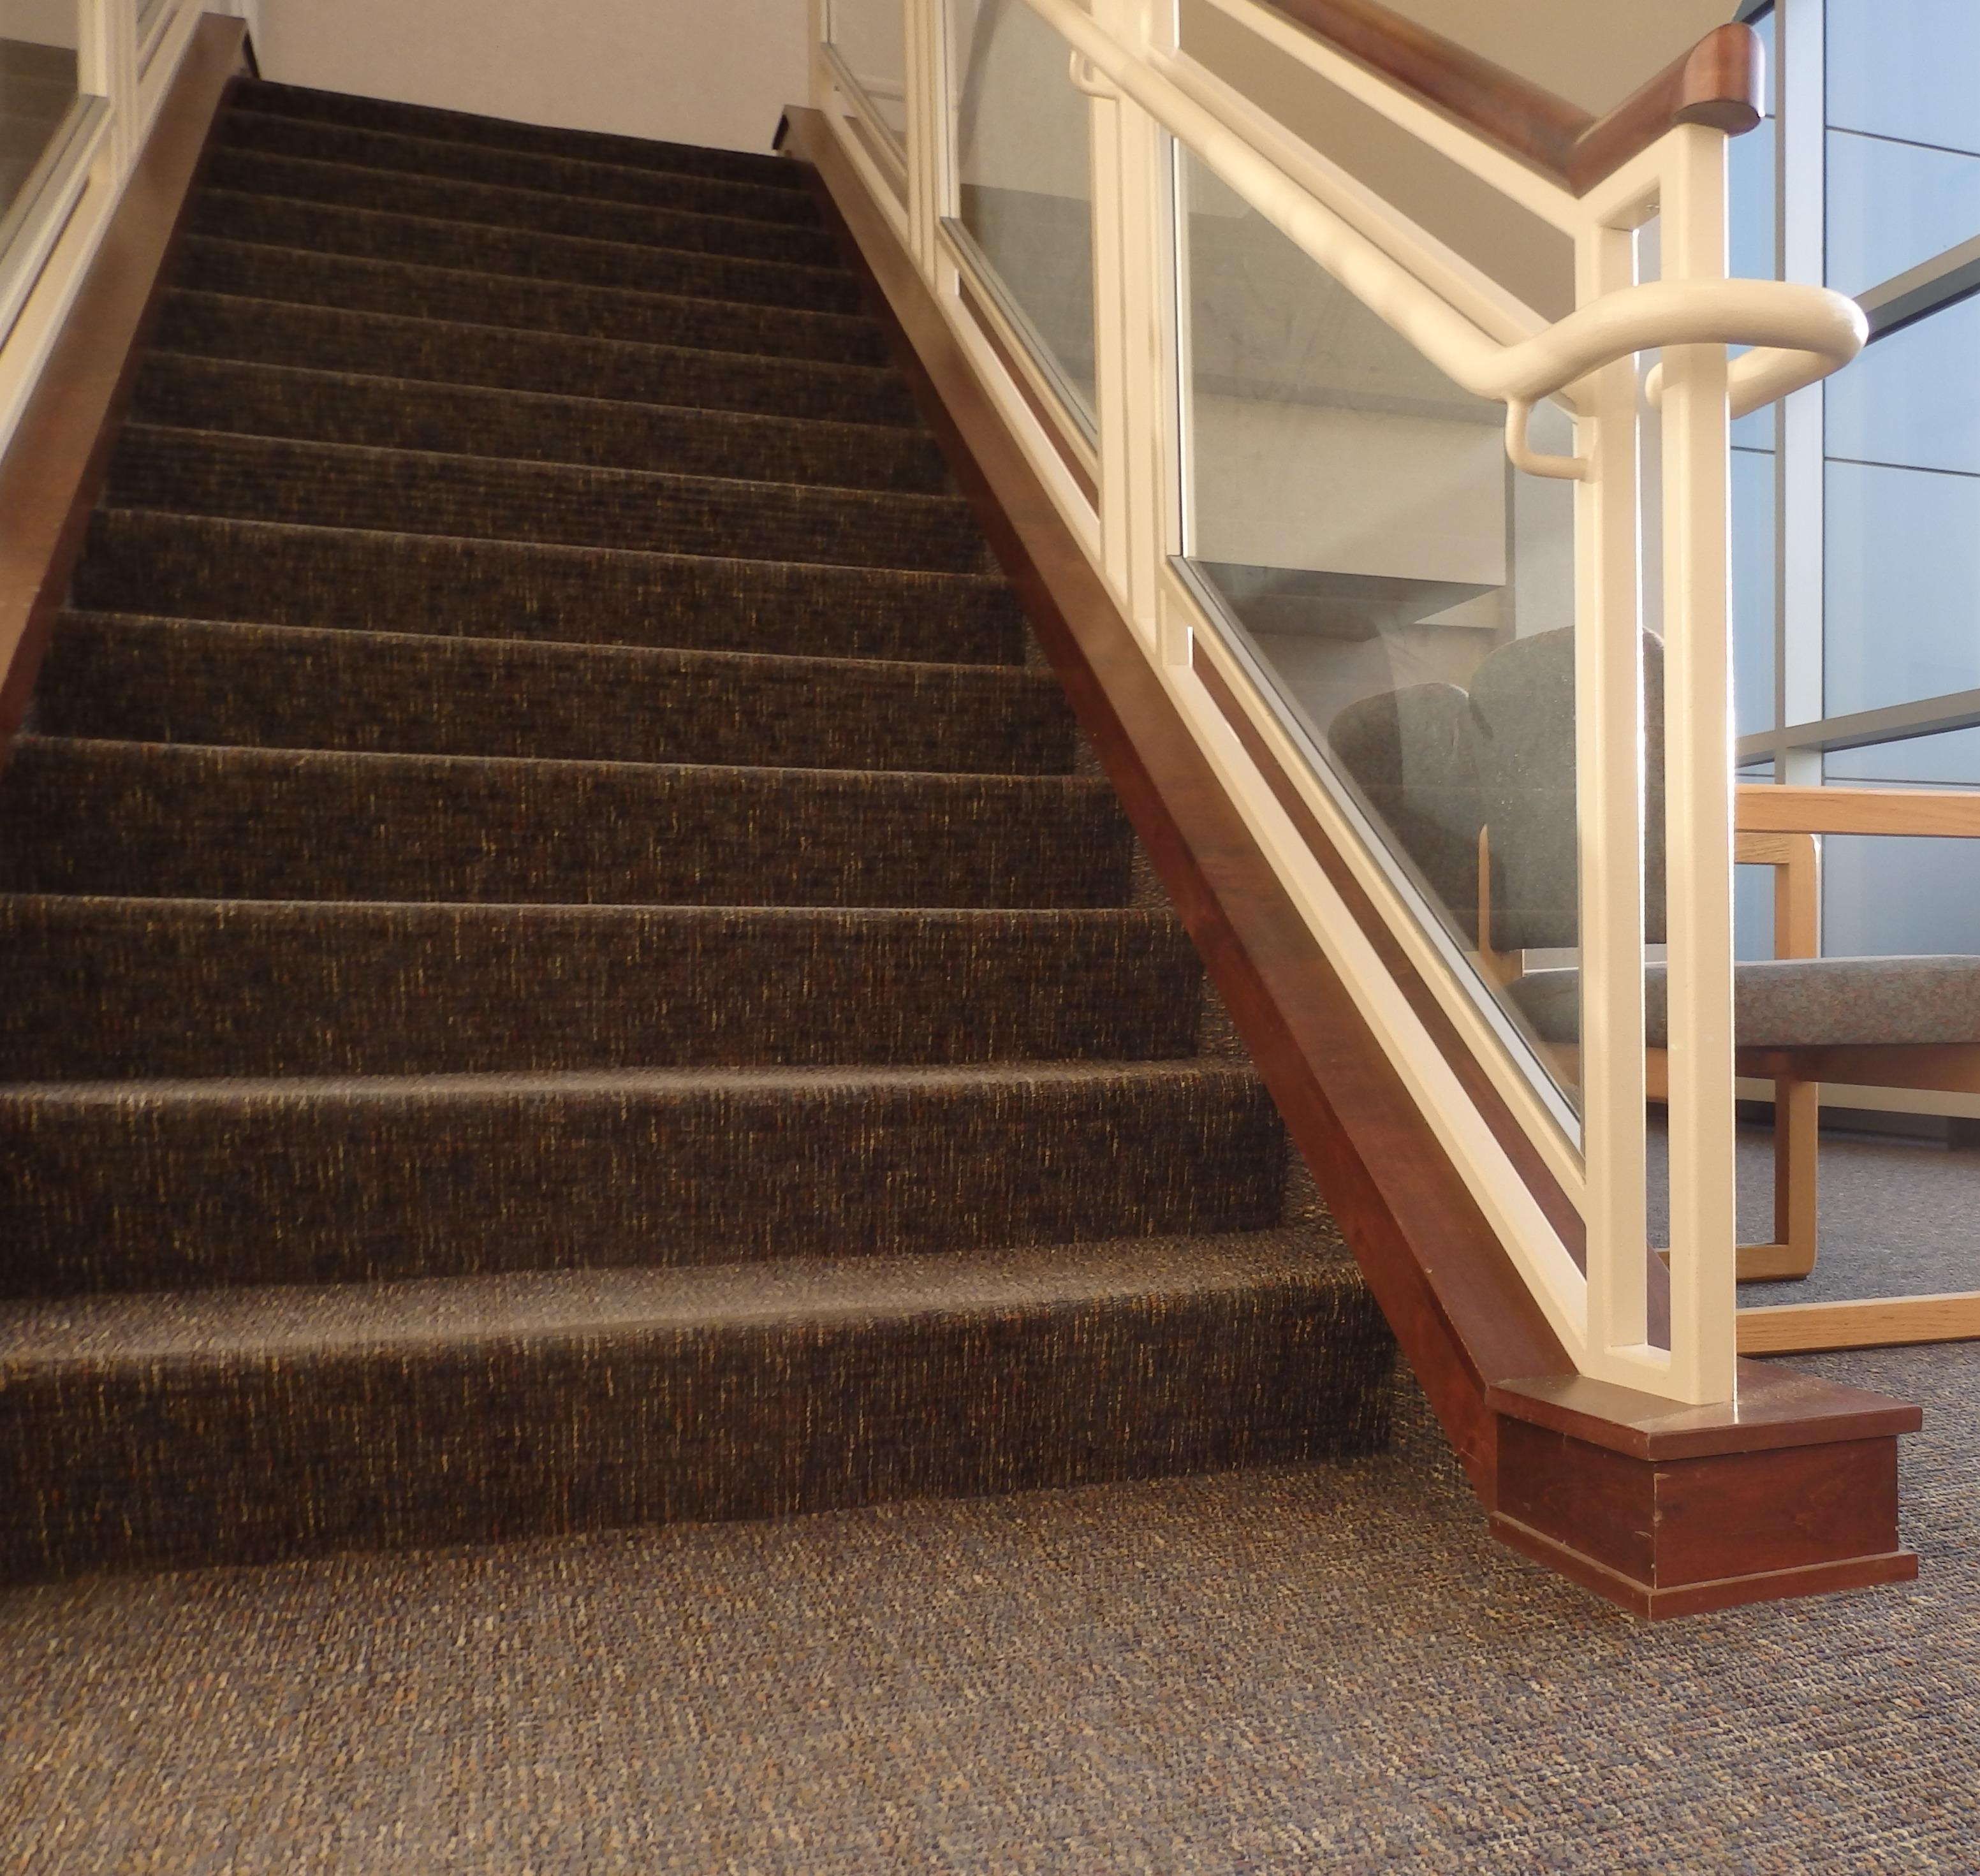stairs_up: (21, 78, 1370, 1582)
